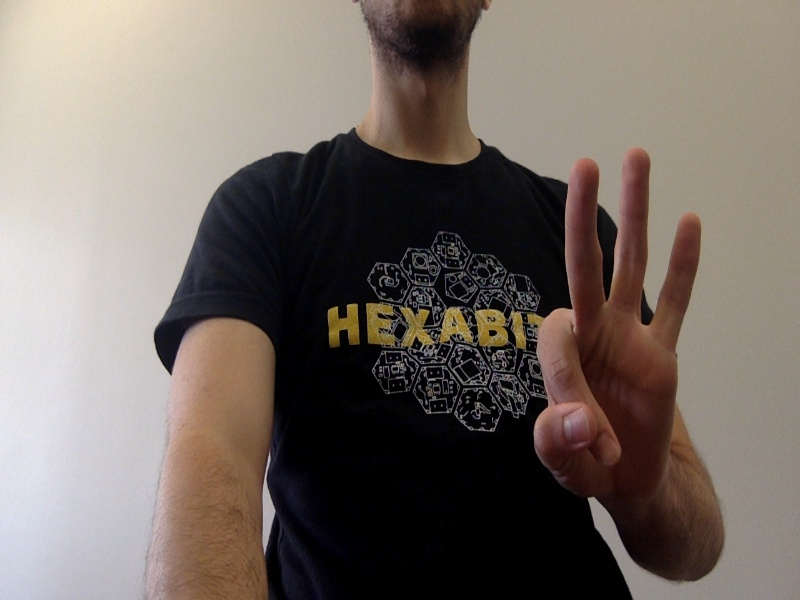3-hand: (539, 150, 702, 497)
